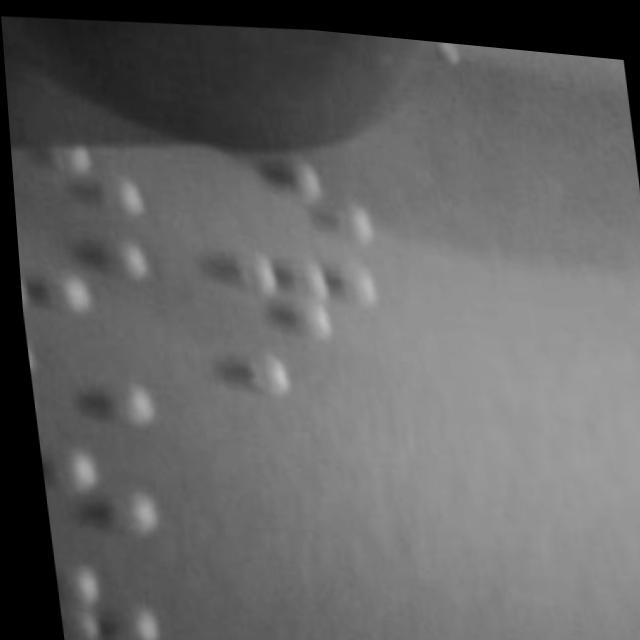braiile: (207, 229, 396, 349), (198, 136, 384, 245), (13, 219, 160, 327), (7, 118, 152, 226), (20, 328, 154, 441), (32, 440, 157, 546), (44, 549, 160, 640)
